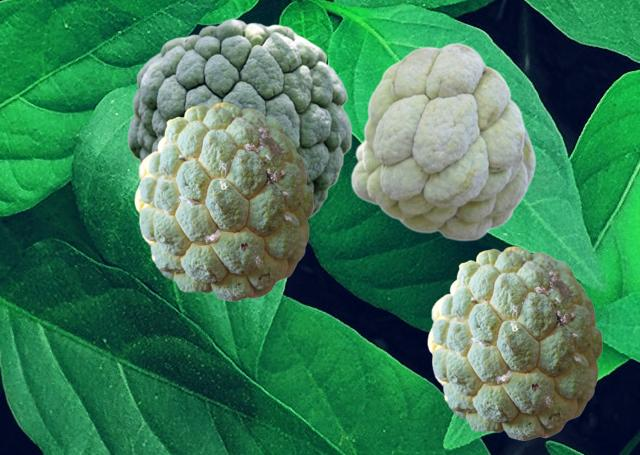atis: (127, 18, 351, 218), (350, 42, 535, 240), (134, 102, 312, 300), (427, 246, 601, 439)
